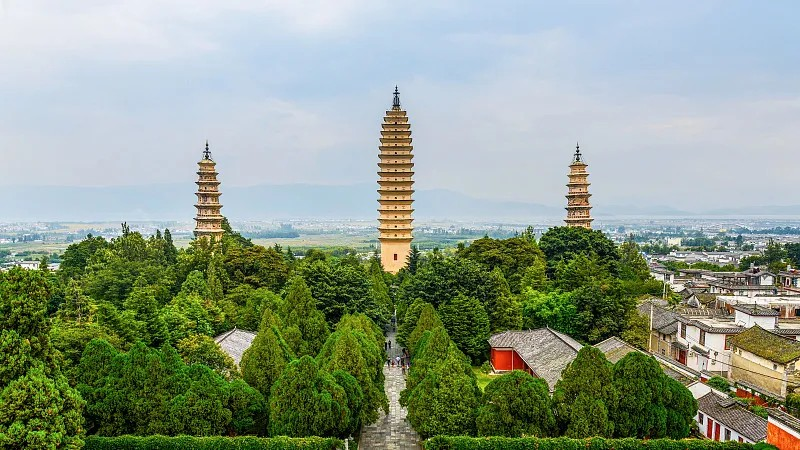ThreePagoda: (377, 84, 415, 276)
